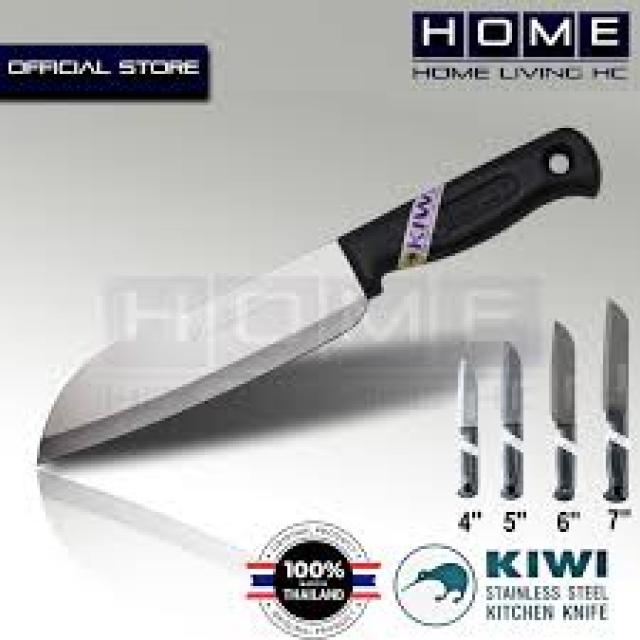Knife: (37, 128, 600, 464)
